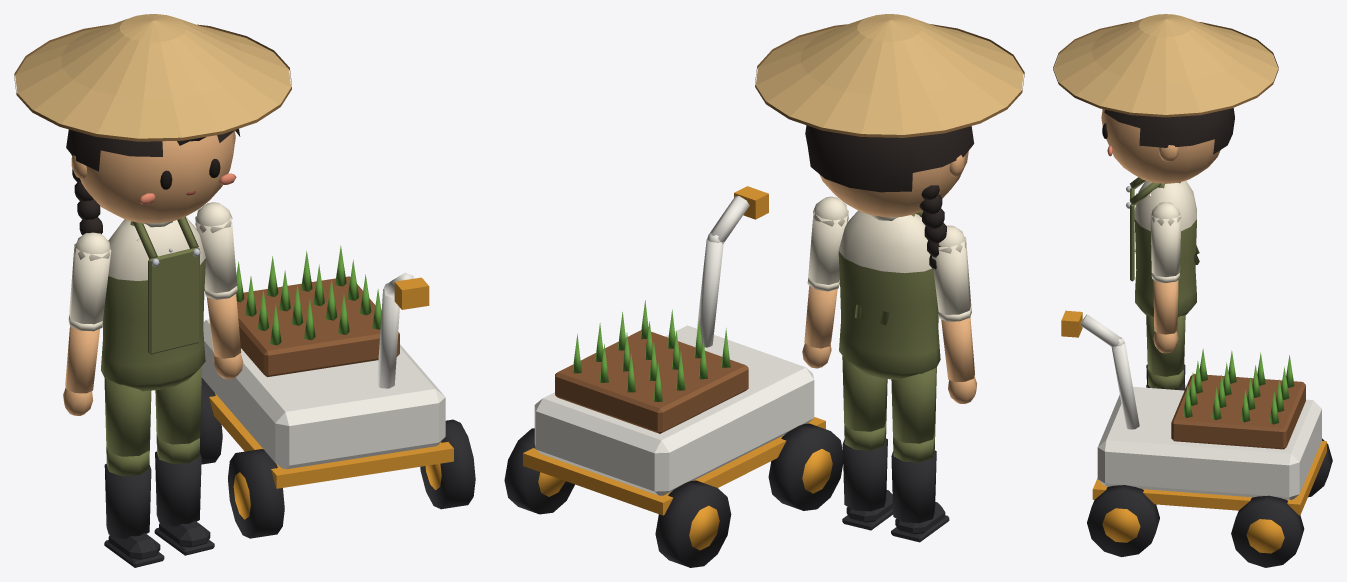
The model's file is era5_robot_farmer.glb.
3 views of the same model, side by side, from view 1: azimuth 30°, elevation 25°; view 2: azimuth 150°, elevation 25°; view 3: azimuth 270°, elevation 25° (orthographic). The views are drawn at different scales.
Visible parts, largest first — view 1: prop_farm_robot, head, body, shin_R, shin_L, arm_R, leg_R, arm_L, leg_L, forearm_R, forearm_L; view 2: prop_farm_robot, head, body, shin_R, shin_L, leg_R, arm_L, arm_R, leg_L, forearm_R, forearm_L; view 3: prop_farm_robot, head, body, arm_L, forearm_L, leg_L, shin_L.
Boxes of the visible parts, <box> form: prop_farm_robot: <box>199,245,475,538</box>; head: <box>14,14,291,234</box>; body: <box>101,216,205,391</box>; shin_R: <box>104,446,164,567</box>; shin_L: <box>154,434,214,555</box>; arm_R: <box>69,232,111,324</box>; leg_R: <box>104,378,151,456</box>; arm_L: <box>195,202,237,293</box>; leg_L: <box>155,366,201,444</box>; forearm_R: <box>63,315,102,415</box>; forearm_L: <box>204,286,243,379</box>; prop_farm_robot: <box>504,186,843,567</box>; head: <box>755,14,1024,269</box>; body: <box>838,210,940,379</box>; shin_R: <box>891,433,949,542</box>; shin_L: <box>842,421,892,530</box>; leg_R: <box>891,367,936,443</box>; arm_L: <box>808,196,848,284</box>; arm_R: <box>932,225,971,314</box>; leg_L: <box>842,356,887,431</box>; forearm_R: <box>938,306,976,403</box>; forearm_L: <box>802,278,839,368</box>; prop_farm_robot: <box>1061,310,1332,567</box>; head: <box>1053,14,1278,183</box>; body: <box>1126,177,1199,316</box>; arm_L: <box>1150,202,1181,277</box>; forearm_L: <box>1151,273,1179,353</box>; leg_L: <box>1146,315,1185,376</box>; shin_L: <box>1146,369,1185,390</box>.
Bounding box in the file's own units: 1.38 × 1.61 × 0.9551.
